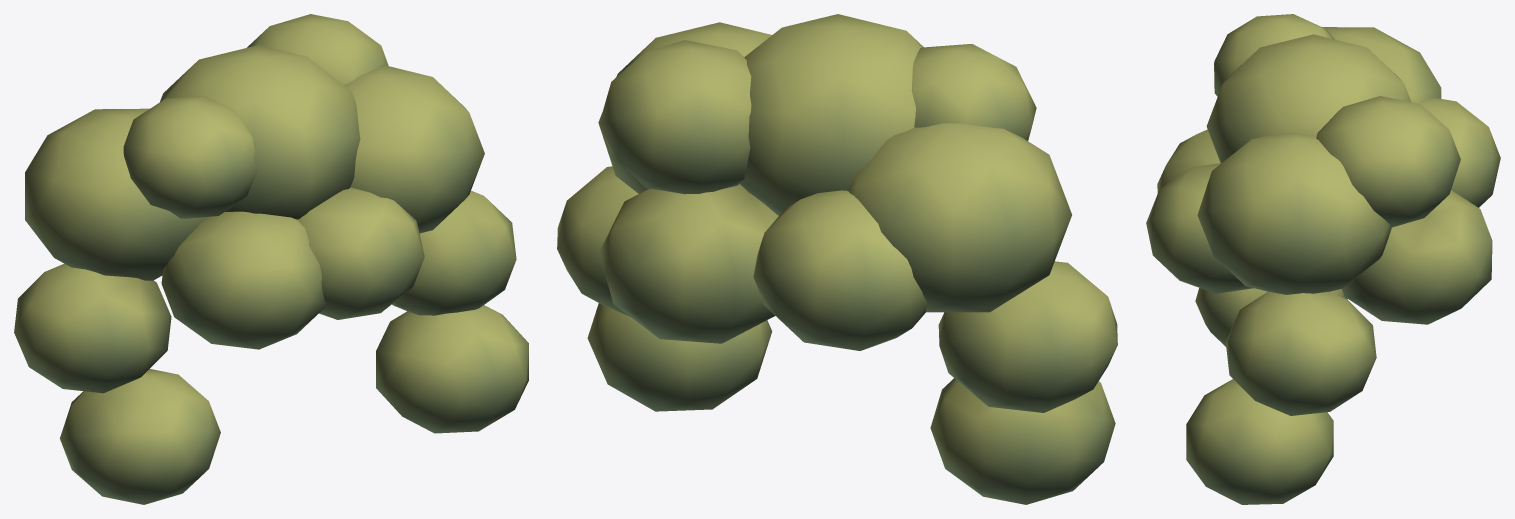
File: cottonwood_crown.glb
3 views of the same model, side by side, from view 1: azimuth 30°, elevation 25°; view 2: azimuth 150°, elevation 25°; view 3: azimuth 270°, elevation 25° (orthographic). The views are drawn at different scales.
Parts seen in each view (by area): view 1: Crown; view 2: Crown; view 3: Crown.
Part boxes in pixels (x1,y1,x2,y2): Crown: (14,14,528,504); Crown: (557,14,1117,504); Crown: (1146,14,1500,504).
Bounding box in the file's own units: 12.74 × 10 × 8.6.
